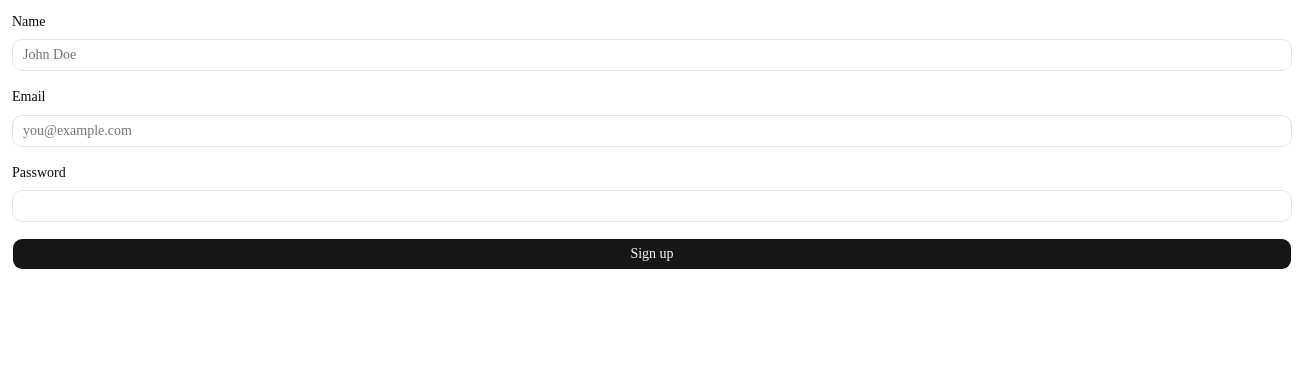
Scenario: RegisterForm › shows validation errors when submitting empty form
The width and height of the screenshot is (1304, 370).
Click the button "Sign up" at (652, 254), box [12,238,1292,270]
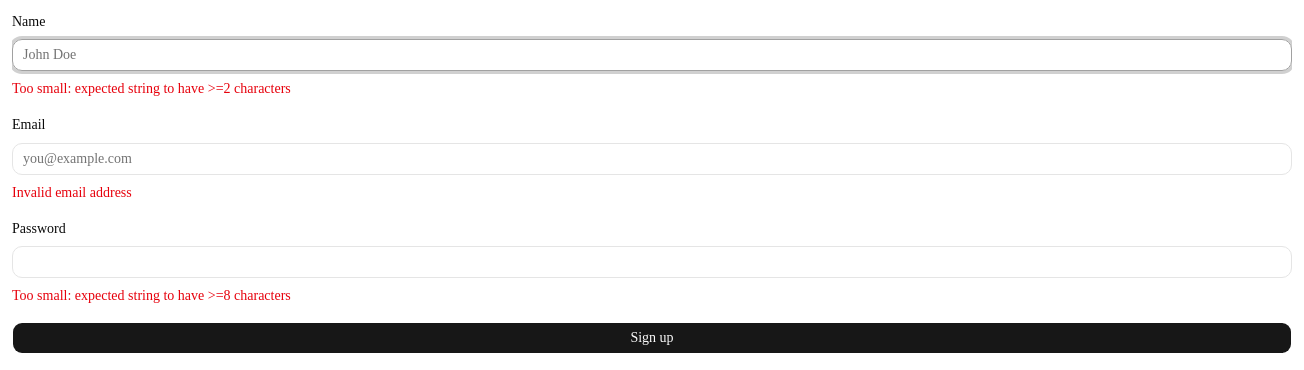
Expected: the 1st message is shown, [12,81,291,96]
